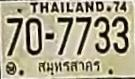0: (25, 17, 41, 54)
3: (111, 16, 128, 52), (94, 16, 109, 52)
7: (6, 17, 22, 55), (75, 16, 91, 54), (57, 16, 72, 54)
SKN: (36, 59, 103, 76)
